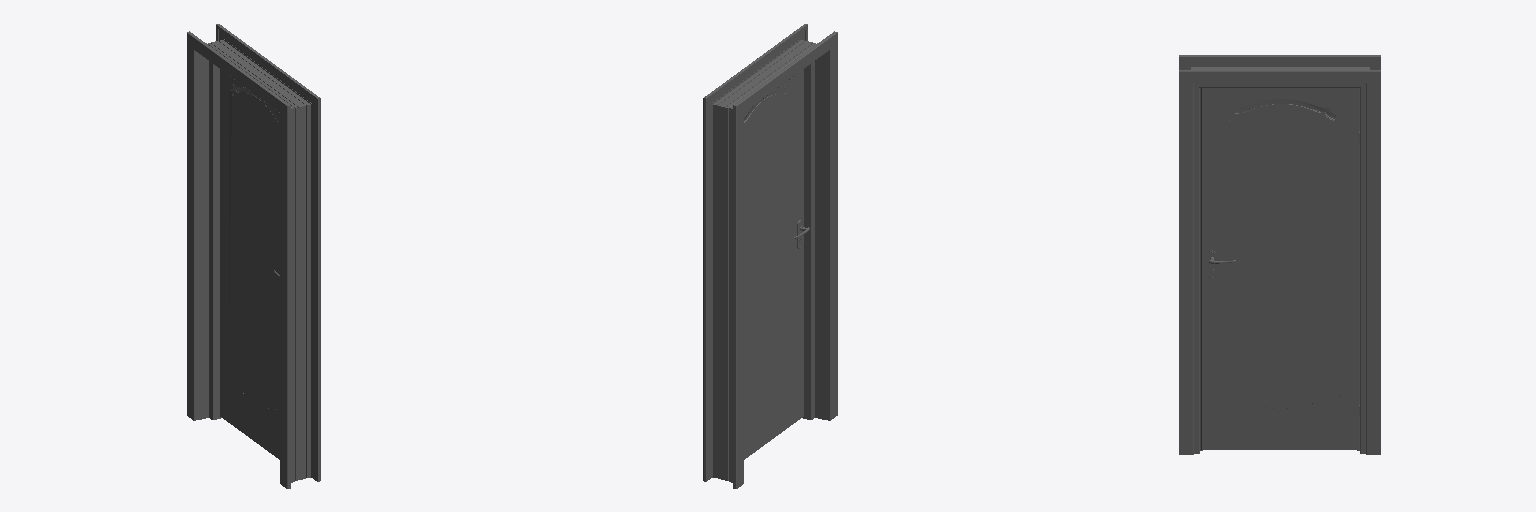
File: door01.obj
The picture shows the model from 3 angles: view 1: azimuth 30°, elevation 25°; view 2: azimuth 150°, elevation 25°; view 3: azimuth 270°, elevation 25°; orthographic projection.
Visible parts, largest first — view 1: Obj3d66_497537_15_56, Obj3d66_497537_13_198, Obj3d66_497537_14_40, Obj3d66_497537_5_825; view 2: Obj3d66_497537_15_56, Obj3d66_497537_13_198, Obj3d66_497537_14_40, Obj3d66_497537_5_825; view 3: Obj3d66_497537_9_665, Obj3d66_497537_15_56, Obj3d66_497537_14_40, Obj3d66_497537_6_398, Obj3d66_497537_2_217.
Part boxes in pixels (x1,y1,x2,y2): Obj3d66_497537_15_56: (187, 24, 320, 488); Obj3d66_497537_13_198: (232, 92, 279, 409); Obj3d66_497537_14_40: (220, 69, 279, 459); Obj3d66_497537_5_825: (229, 85, 279, 415); Obj3d66_497537_15_56: (703, 24, 837, 488); Obj3d66_497537_13_198: (744, 92, 791, 410); Obj3d66_497537_14_40: (744, 69, 803, 459); Obj3d66_497537_5_825: (744, 84, 794, 416); Obj3d66_497537_9_665: (1228, 104, 1333, 408); Obj3d66_497537_15_56: (1179, 55, 1380, 454); Obj3d66_497537_14_40: (1201, 88, 1358, 449); Obj3d66_497537_6_398: (1222, 99, 1339, 413); Obj3d66_497537_2_217: (1336, 116, 1339, 394).
Bounding box in the file's own units: 8.91 × 84.96 × 40.72.